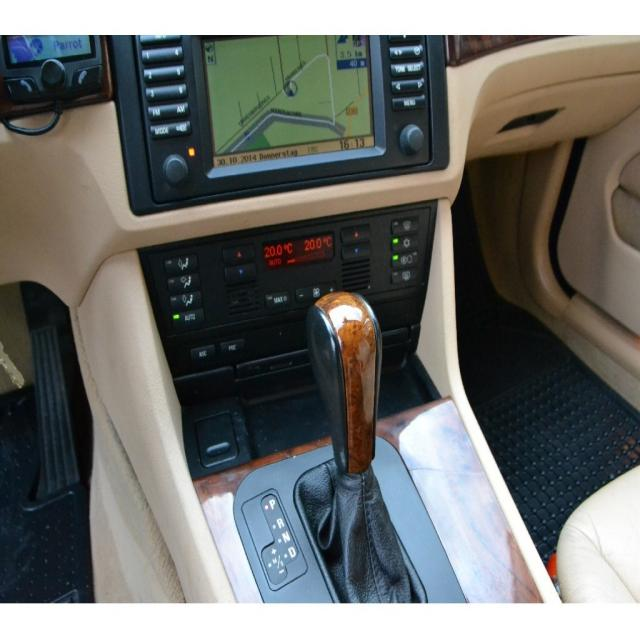car: (25, 0, 615, 572)
